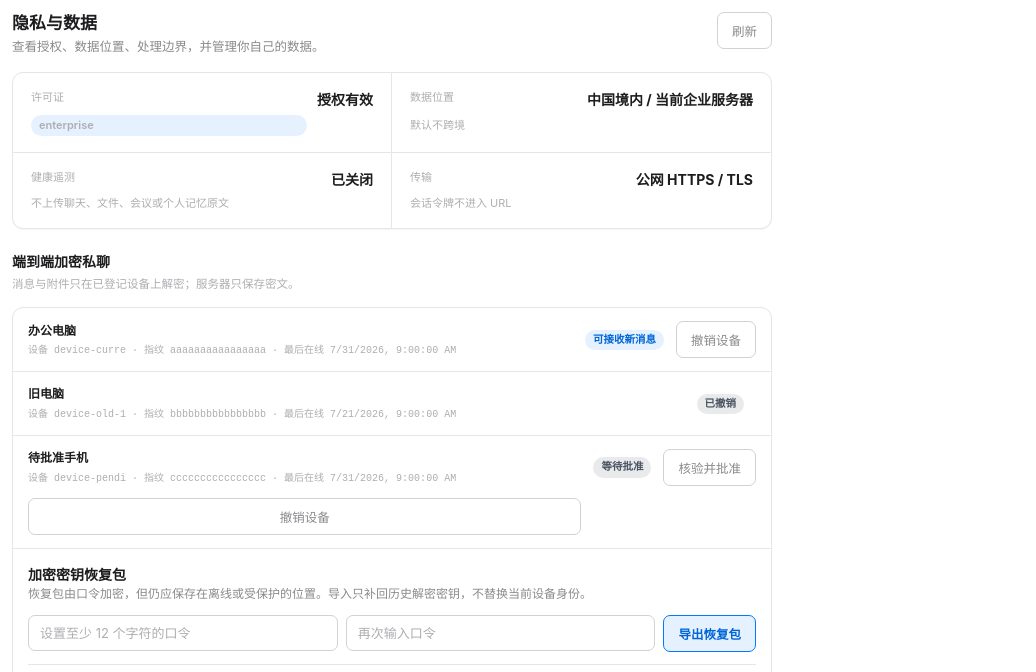
PrivacyDataPanel › exports a passphrase-protected recovery bundle through the native save dialog
This screenshot has width=1036, height=672.
Expected: the text "办公电脑" is shown, [28,323,76,338]
Type "correct horse battery" into the password field named "恢复包口令" at (183, 633), box [28,615,338,651]
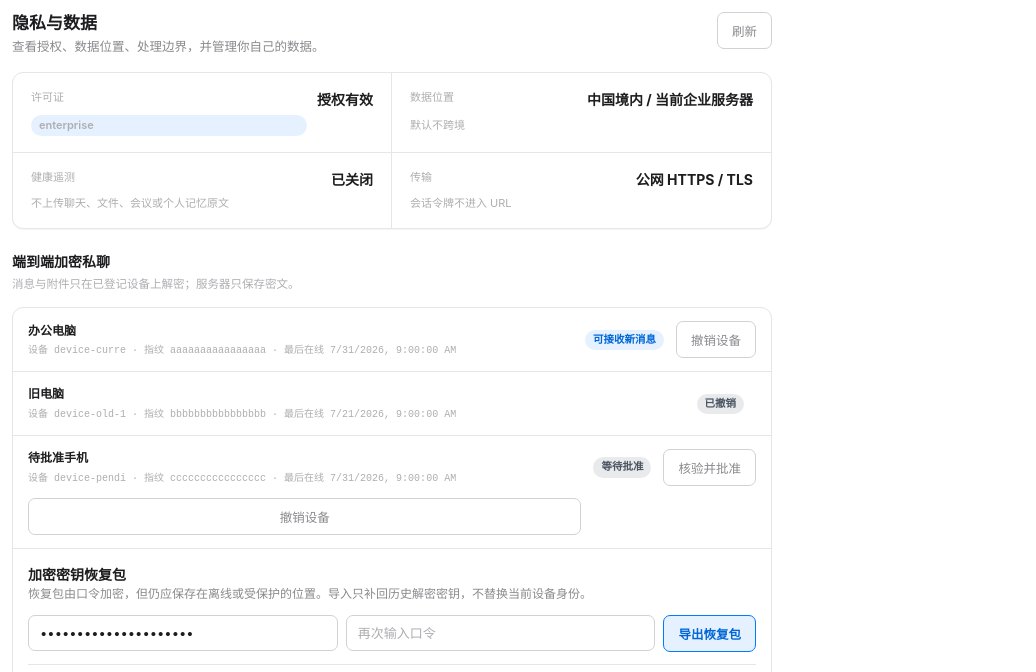
Type "correct horse battery" into the password field named "确认恢复包口令" at (501, 633), box [346,615,656,651]
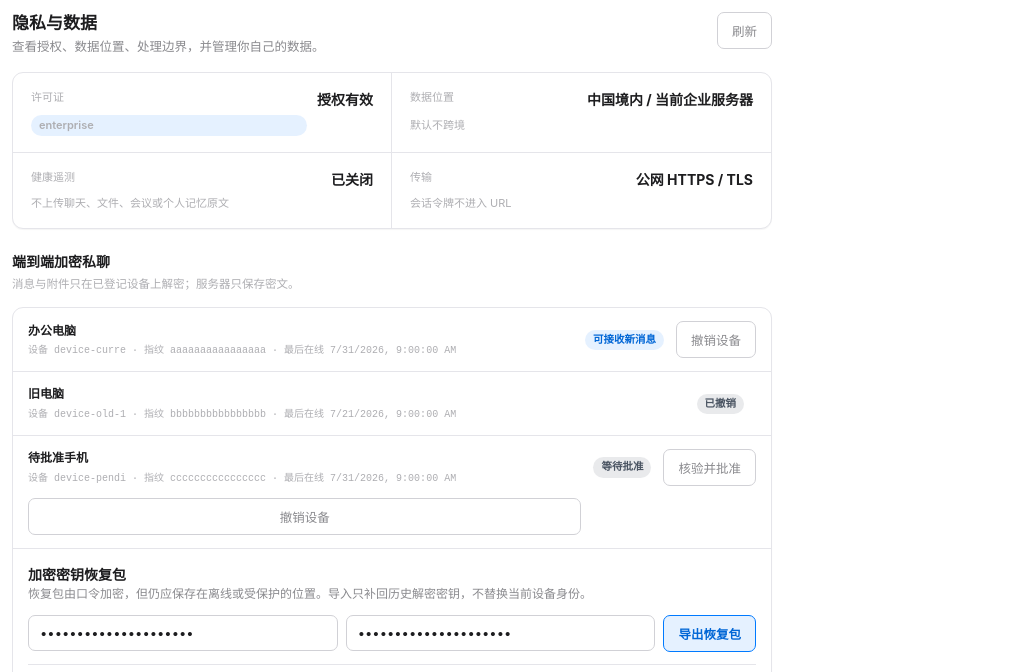
Click the button "导出恢复包" at (710, 634), box [664,615,756,652]
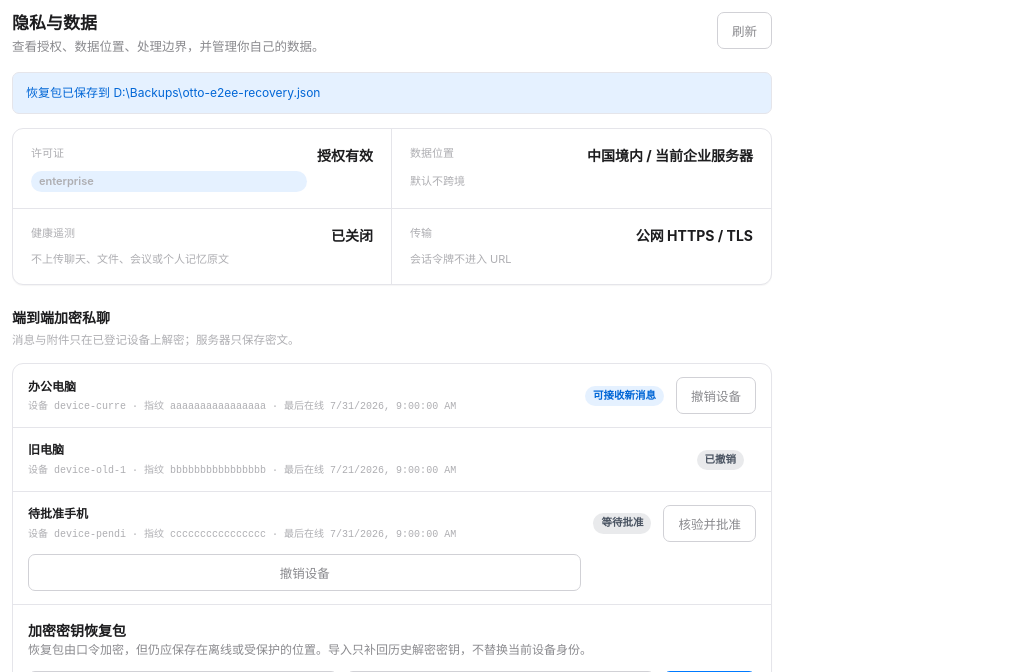
Expected: the text "恢复包已保存到 D:\\Backups\\otto-e2ee-recovery.json" is shown, [12,72,772,114]
